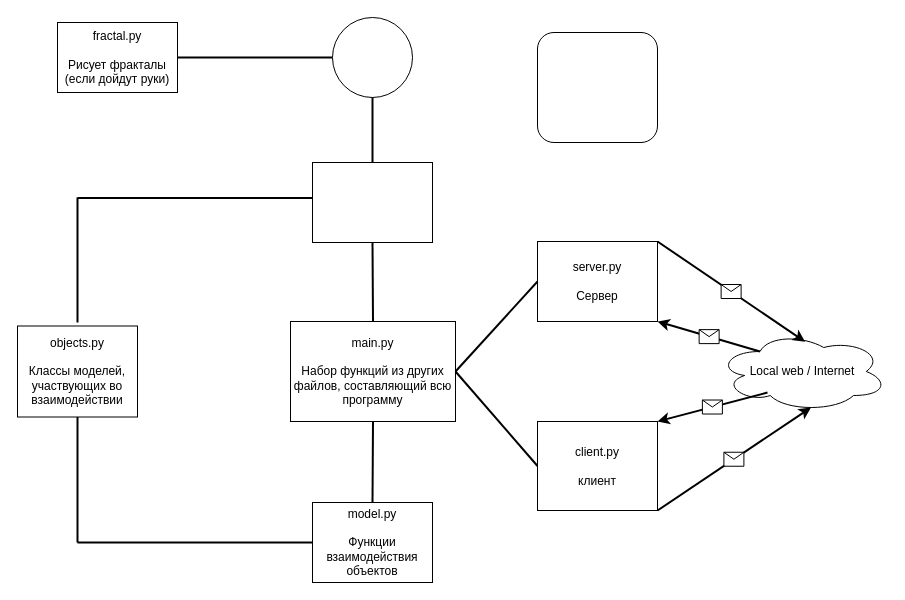
The diagram is 905 pixels wide and 600 high, and some of its shapes have lost their labels. The box of each missing label's shape, as (x1, y1, x2, y2) in pixels:
constants.py Содержит константы, на которые могут ссылаться все файлы: (536, 32, 658, 142)
Repository: (332, 16, 412, 98)
visual.py Интерфейс и функции отрисовки объектов: (312, 162, 432, 242)
